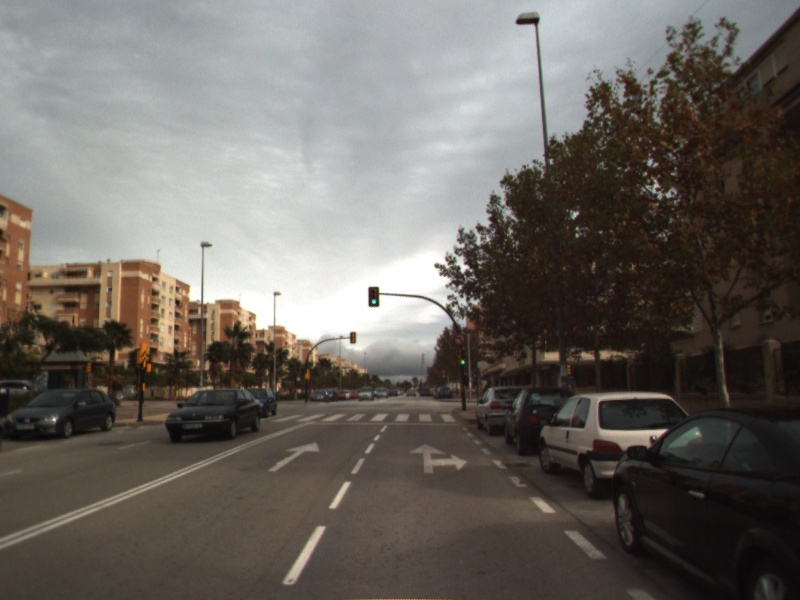STRAIGHT: (266, 440, 321, 474)
STRAIGHT_RIGHT: (407, 441, 469, 475)
